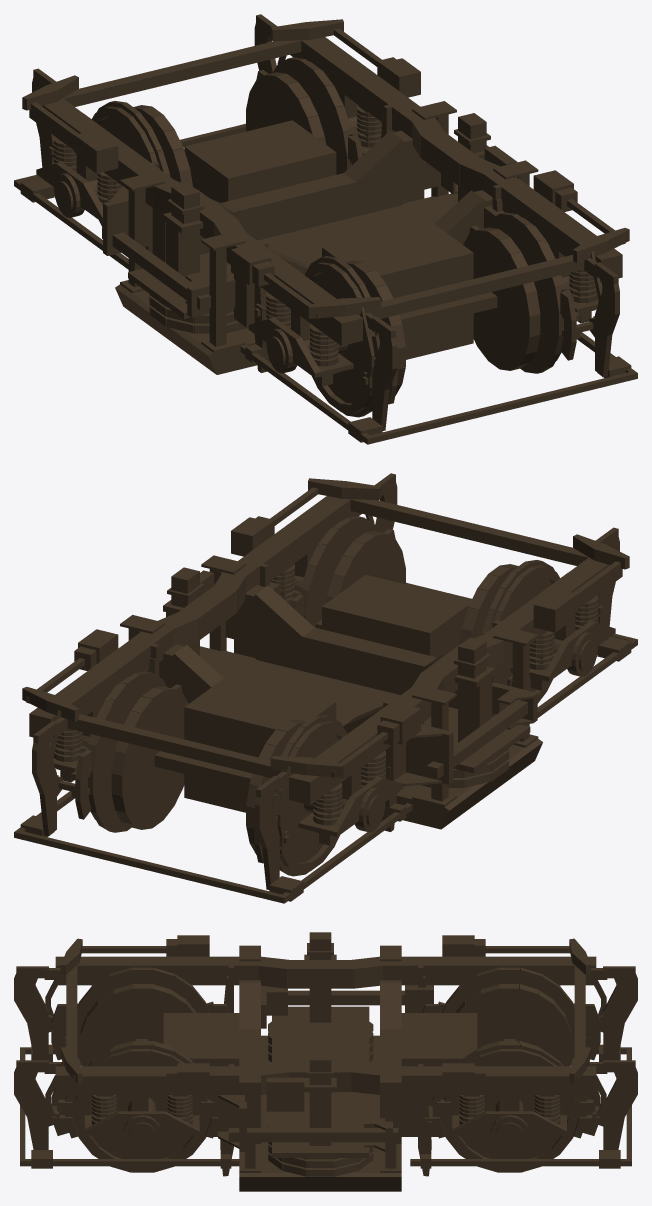
The model's file is model_daisya.gltf.
The picture shows the model from 3 angles, top to bottom: view 1: azimuth 30°, elevation 25°; view 2: azimuth 150°, elevation 25°; view 3: azimuth 270°, elevation 25°; orthographic projection. The views are drawn at different scales.
Visible parts, largest first — view 1: borusuta (×11), daishawaku (×7), moter (×2), daishawaku2 (×7), douryokuuke2 (×8), break2 (×4), dampa (×3), break (×2), sharin3 (×3), jikubou2, break4, break3 (+2 smaller); view 2: borusuta (×9), daishawaku (×7), moter (×2), daishawaku2 (×7), douryokuuke (×9), dampa (×4), break2 (×3), break (×2), sharin (×3), jikubou, break3, break4 (+1 smaller); view 3: borusuta (×8), daishawaku (×12), daishawaku2 (×7), moter (×2), douryokuuke (×10), douryokuuke2 (×9), break3 (×9), break4 (×9), break2 (×6), break (×6), dampa2 (×3), sharin4 (×6) (+4 smaller).
Part boxes in pixels (x1,y1,x2,y2): borusuta (×11): [115, 130, 488, 374]; daishawaku (×7): [63, 37, 622, 318]; moter (×2): [184, 120, 473, 359]; daishawaku2 (×7): [29, 98, 362, 346]; douryokuuke2 (×8): [468, 227, 540, 370]; break2 (×4): [14, 123, 632, 443]; dampa (×3): [102, 197, 235, 317]; break (×2): [231, 244, 372, 444]; sharin3 (×3): [311, 256, 371, 417]; jikubou2: [399, 292, 497, 330]; break4: [380, 58, 420, 97]; break3: [533, 170, 573, 204]; borusuta (×9): [159, 585, 542, 829]; daishawaku (×7): [29, 496, 588, 777]; moter (×2): [184, 574, 471, 812]; daishawaku2 (×7): [289, 557, 622, 804]; douryokuuke (×9): [111, 686, 188, 829]; dampa (×4): [385, 682, 537, 784]; break2 (×3): [19, 703, 420, 903]; break (×2): [533, 591, 637, 717]; sharin (×3): [280, 715, 340, 876]; jikubou: [154, 751, 252, 789]; break3: [231, 517, 271, 556]; break4: [78, 629, 118, 663]; borusuta (×8): [239, 983, 401, 1191]; daishawaku (×12): [55, 965, 596, 1168]; daishawaku2 (×7): [55, 932, 596, 1022]; moter (×2): [163, 1013, 477, 1136]; douryokuuke (×10): [455, 984, 571, 1066]; douryokuuke2 (×9): [80, 984, 186, 1066]; break3 (×9): [14, 1060, 239, 1168]; break4 (×9): [410, 1060, 637, 1168]; break2 (×6): [442, 935, 637, 1060]; break (×6): [14, 935, 209, 1060]; dampa2 (×3): [218, 1095, 398, 1151]; sharin4 (×6): [72, 1043, 211, 1172].
Bounding box in the file's own units: 0.00791 × 0.00346 × 0.0143.
1 material, 1 textured.
